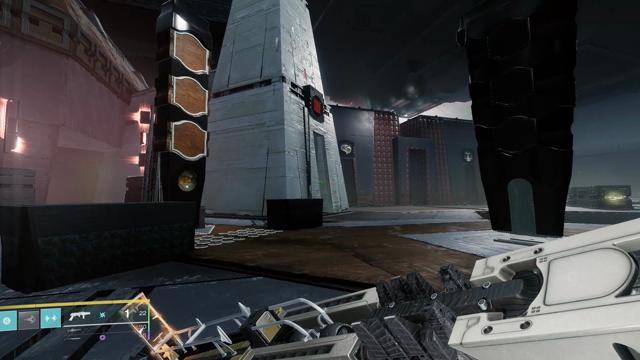brain: (339, 142, 353, 157)
drink: (463, 149, 474, 163)
traveler: (312, 95, 324, 118)
